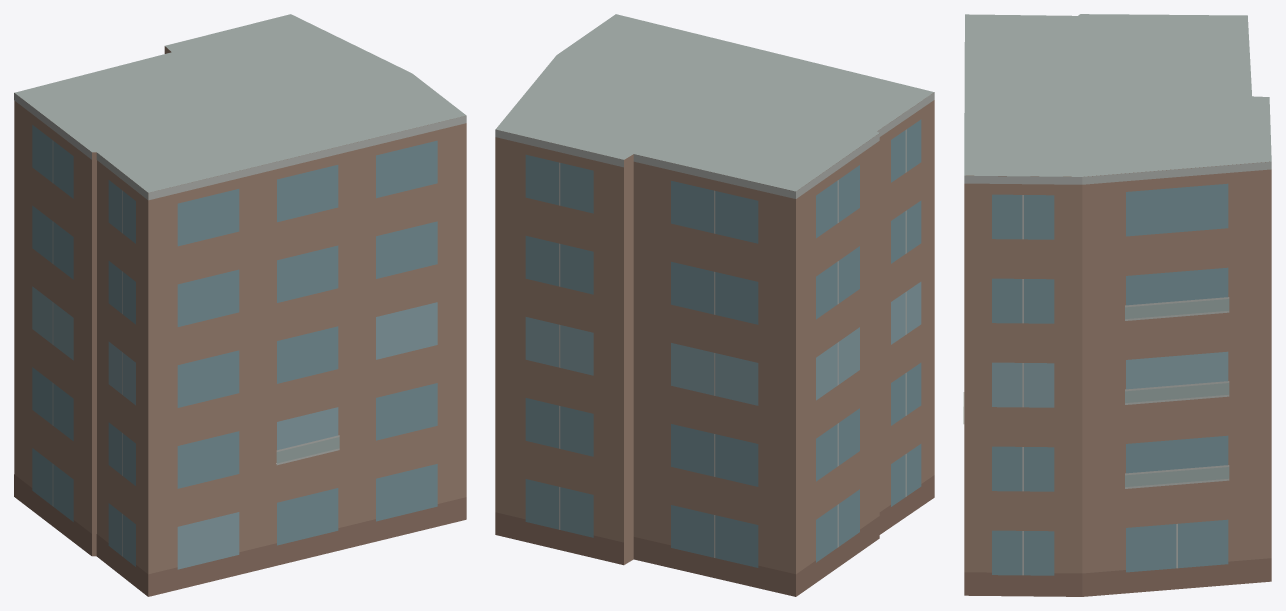
The model's file is survey-upis-32878231.glb.
3 renders of one model, left to right at view 1: azimuth 30°, elevation 25°; view 2: azimuth 150°, elevation 25°; view 3: azimuth 270°, elevation 25°, orthographic. The views are drawn at different scales.
Parts seen in each view (by area): view 1: survey-upis-32878231.tmp; view 2: survey-upis-32878231.tmp; view 3: survey-upis-32878231.tmp.
Part boxes in pixels (<box>): survey-upis-32878231.tmp: <box>14,14,466,596</box>; survey-upis-32878231.tmp: <box>495,14,934,596</box>; survey-upis-32878231.tmp: <box>963,14,1271,596</box>.
Size of the model in its own units: 10.82 by 13 by 8.66.
